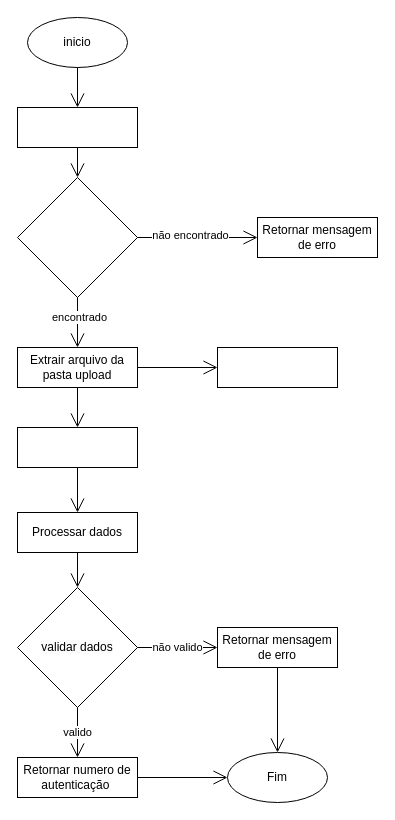
The diagram is 395 pixels wide and 820 high, and some of its shapes have lost their labels. The centre of each missing label's shape, as x and y in pixels:
"Extrair dados do arquivo" goes at pixel 77 447.
"Iniciar processos" goes at pixel 77 127.
"Processar arquivo através do método PUT" goes at pixel 277 367.
"Verificar a existência do arquivo" goes at pixel 77 237.
